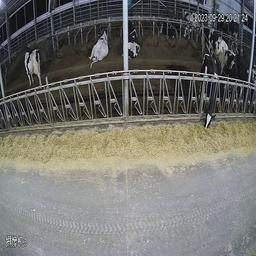cow: (202, 49, 217, 132), (24, 46, 42, 89), (89, 23, 108, 63), (160, 19, 181, 42), (128, 22, 140, 60)
